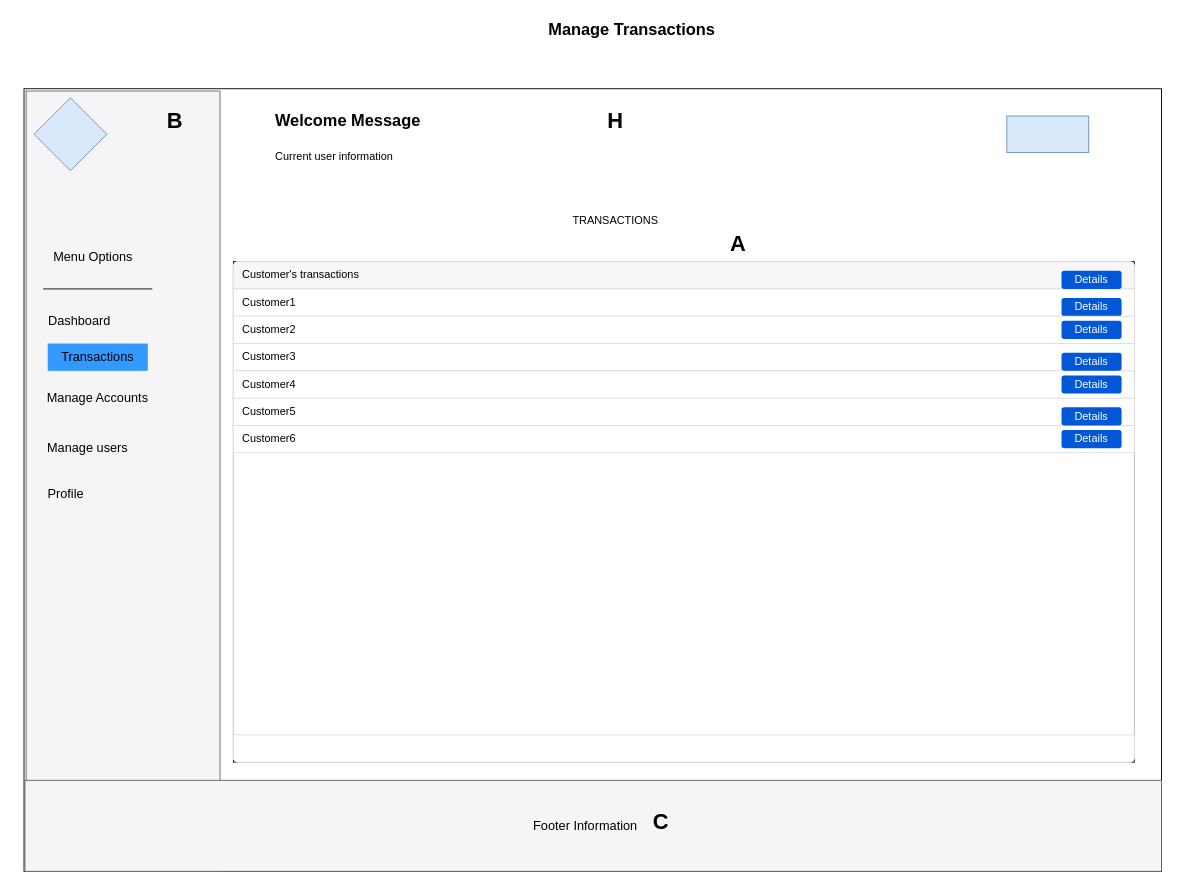
The diagram is 1178 pixels wide and 887 high, and some of its shapes have lost their labels. Here are the shapes that lost their labels. From the top down, the centre of each, then its label:
point (70, 134): LOGO
point (1047, 133): Logout
